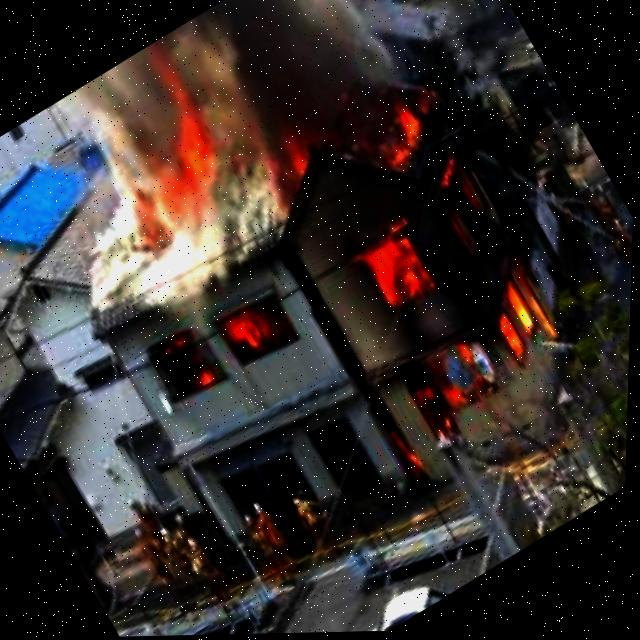Fire: (261, 65, 594, 458), (148, 284, 293, 407), (131, 120, 232, 222)
Smoke: (33, 0, 428, 306)
